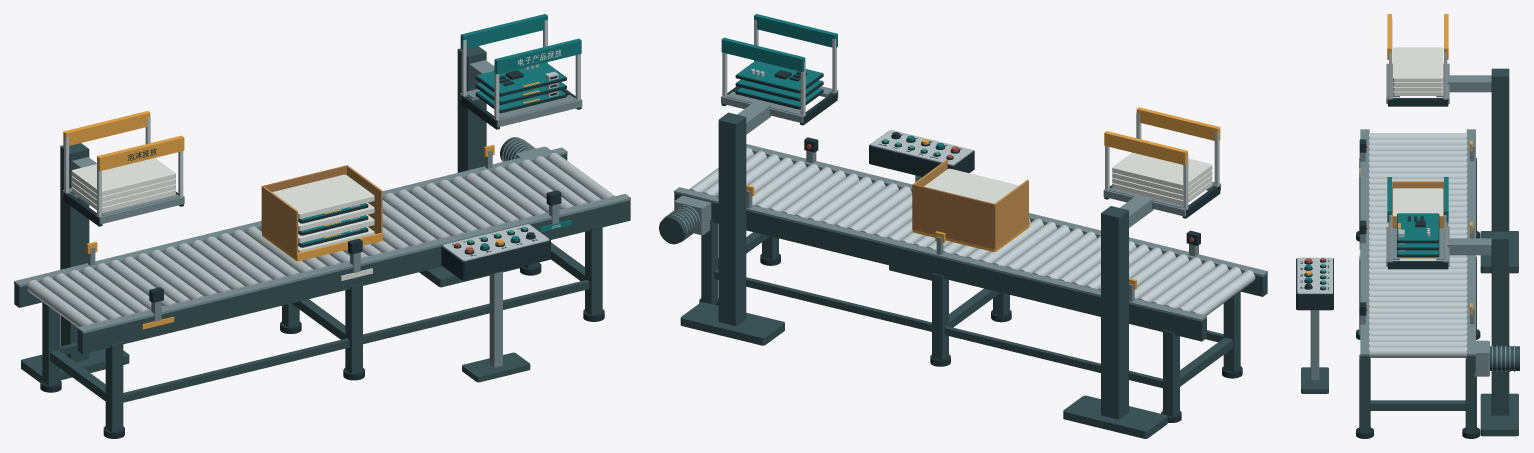
The model's file is station.glb.
3 views of the same model, side by side, from view 1: azimuth 30°, elevation 25°; view 2: azimuth 150°, elevation 25°; view 3: azimuth 270°, elevation 25° (orthographic). The views are drawn at different scales.
Parts seen in each view (by area): view 1: Rail_-400, Stretcher_-400, Lip_-400, LeftMast, Lip_400, Foam_04, RightMast, PanelCase, StockFoam_04, BoxEnd_-308, Leg_-1750_-400, PanelFace (+55 smaller); view 2: Rail_400, RightMast, LeftMast, Stretcher_400, BoxBack, Lip_400, RightBase, LeftBase, Lip_-400, StockFoam_04, Foam_04, BoxEnd_-308 (+39 smaller); view 3: LeftMast, RightMast, StockFoam_04, Lip_400, Lip_-400, Foam_04, RightBase, Roller_39, Cross_1750, PanelFace, StockProduct_03_PCB, LeftCantilever (+48 smaller).
Part boxes in pixels (x1=…): Rail_-400: x1=77, y1=200, x2=630, y2=354; Stretcher_-400: x1=123, y1=280, x2=589, y2=402; Lip_-400: x1=77, y1=193, x2=630, y2=333; LeftMast: x1=60, y1=143, x2=89, y2=362; Lip_400: x1=14, y1=147, x2=567, y2=287; Foam_04: x1=272, y1=174, x2=374, y2=218; RightMast: x1=457, y1=46, x2=486, y2=172; PanelCase: x1=441, y1=225, x2=550, y2=280; StockFoam_04: x1=71, y1=158, x2=175, y2=196; BoxEnd_-308: x1=262, y1=186, x2=298, y2=257; Leg_-1750_-400: x1=105, y1=342, x2=123, y2=432; PanelFace: x1=443, y1=224, x2=549, y2=261; Rail_400: x1=674, y1=193, x2=1206, y2=341; RightMast: x1=718, y1=112, x2=746, y2=326; LeftMast: x1=1101, y1=206, x2=1128, y2=419; Stretcher_400: x1=714, y1=270, x2=1162, y2=388; BoxBack: x1=912, y1=184, x2=995, y2=249; Lip_400: x1=674, y1=187, x2=1206, y2=321; RightBase: x1=680, y1=302, x2=784, y2=345; LeftBase: x1=1063, y1=395, x2=1167, y2=438; Lip_-400: x1=746, y1=144, x2=1267, y2=277; StockFoam_04: x1=1112, y1=152, x2=1212, y2=189; Foam_04: x1=924, y1=168, x2=1018, y2=203; BoxEnd_-308: x1=995, y1=179, x2=1028, y2=248; LeftMast: x1=1491, y1=68, x2=1509, y2=231; RightMast: x1=1491, y1=231, x2=1509, y2=415; StockFoam_04: x1=1393, y1=47, x2=1443, y2=82; Lip_400: x1=1466, y1=129, x2=1475, y2=355; Lip_-400: x1=1360, y1=129, x2=1369, y2=355; Foam_04: x1=1393, y1=188, x2=1443, y2=215; RightBase: x1=1480, y1=393, x2=1518, y2=436; Roller_39: x1=1369, y1=346, x2=1467, y2=357; Cross_1750: x1=1370, y1=400, x2=1465, y2=410; PanelFace: x1=1297, y1=257, x2=1332, y2=293; StockProduct_03_PCB: x1=1397, y1=213, x2=1438, y2=240; LeftCantilever: x1=1447, y1=75, x2=1491, y2=92.
Size of the model in its own units: 4 by 1.86 by 1.68.
